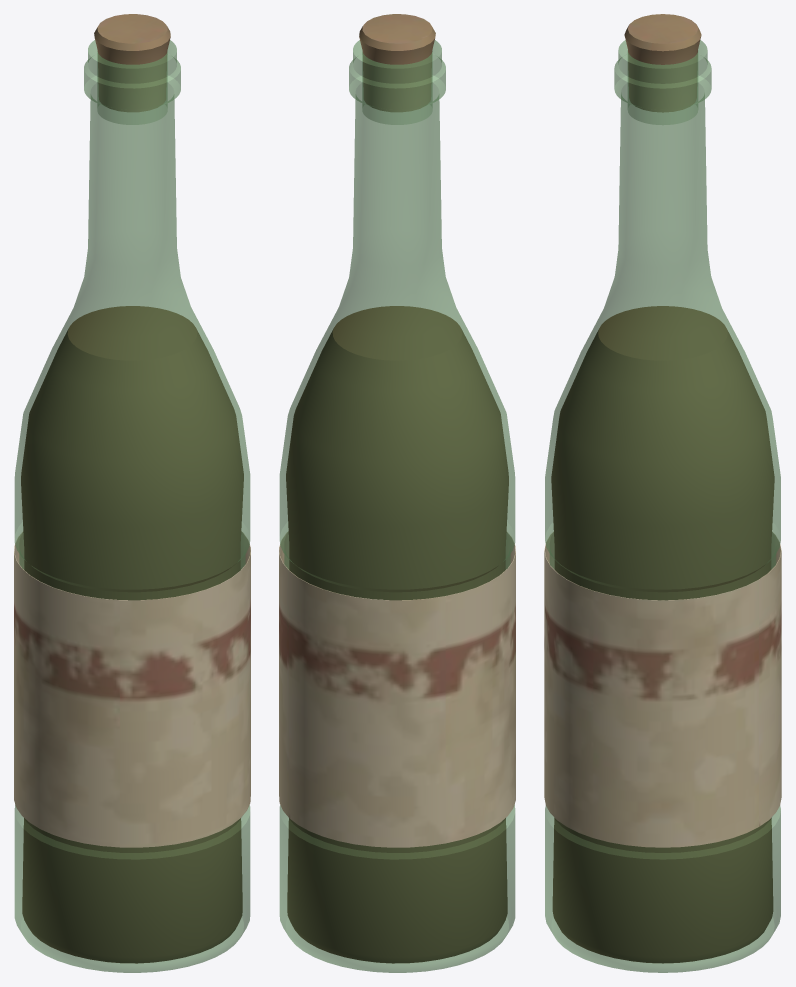
File: garrafa_vidro_agua_suja.glb
3 views of the same model, side by side, from view 1: azimuth 30°, elevation 25°; view 2: azimuth 150°, elevation 25°; view 3: azimuth 270°, elevation 25° (orthographic).
Parts seen in each view (by area): view 1: casca, agua, rotulo, rolha; view 2: casca, agua, rotulo, rolha; view 3: casca, agua, rotulo, rolha.
Boxes of the visible parts, x1,y1,x2,y2 form: casca: (14,40,250,972); agua: (21,306,243,963); rotulo: (14,531,250,847); rolha: (94,14,170,111); casca: (279,40,515,972); agua: (286,306,508,963); rotulo: (279,531,515,847); rolha: (359,14,435,111); casca: (545,40,780,972); agua: (551,306,774,963); rotulo: (544,532,781,847); rolha: (624,14,701,112).
Size of the model in its own units: 0.0713 by 0.2996 by 0.0713.
Materials: 3 (1 with a texture image).
